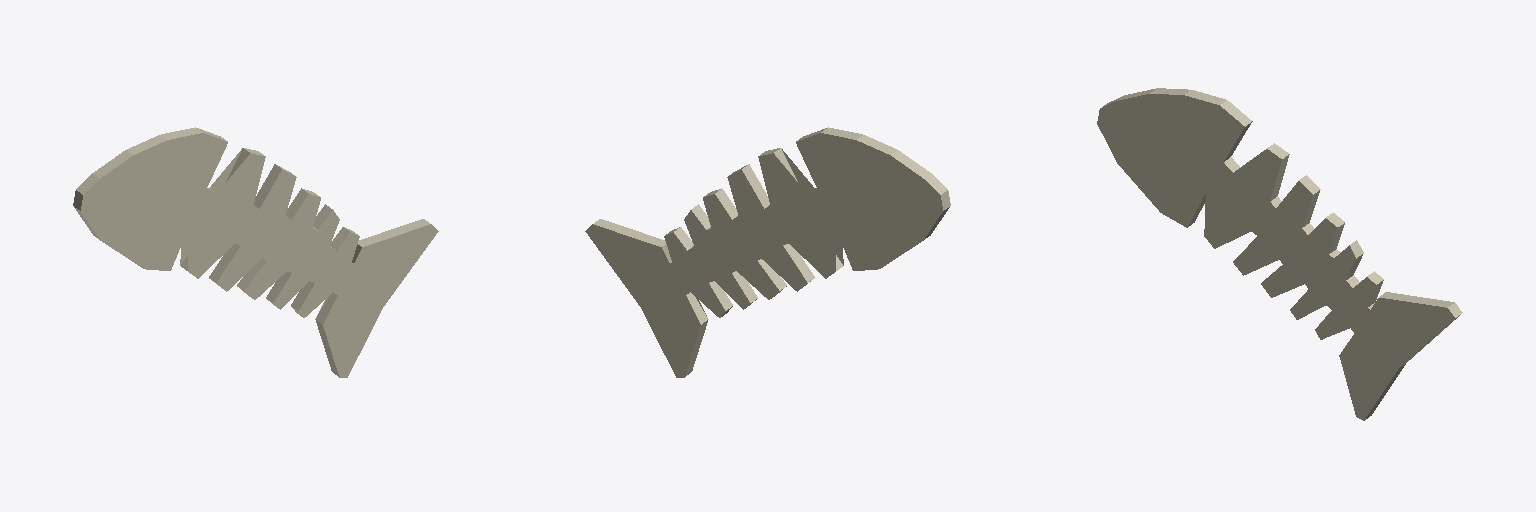
File: organik2.obj
3 renders of one model, left to right at view 1: azimuth 30°, elevation 25°; view 2: azimuth 150°, elevation 25°; view 3: azimuth 330°, elevation 25°, orthographic.
Parts seen in each view (by area): view 1: Circle_Circle.001; view 2: Circle_Circle.001; view 3: Circle_Circle.001.
Boxes of the visible parts, <box> form: Circle_Circle.001: <box>73,127,438,377</box>; Circle_Circle.001: <box>585,127,950,377</box>; Circle_Circle.001: <box>1097,88,1462,420</box>.
Size of the model in its own units: 9.92 by 7.46 by 0.3627.